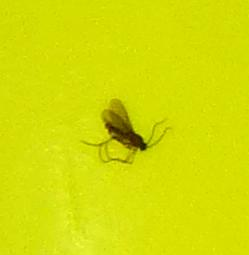Hymenoptera: (100, 100, 149, 155)
